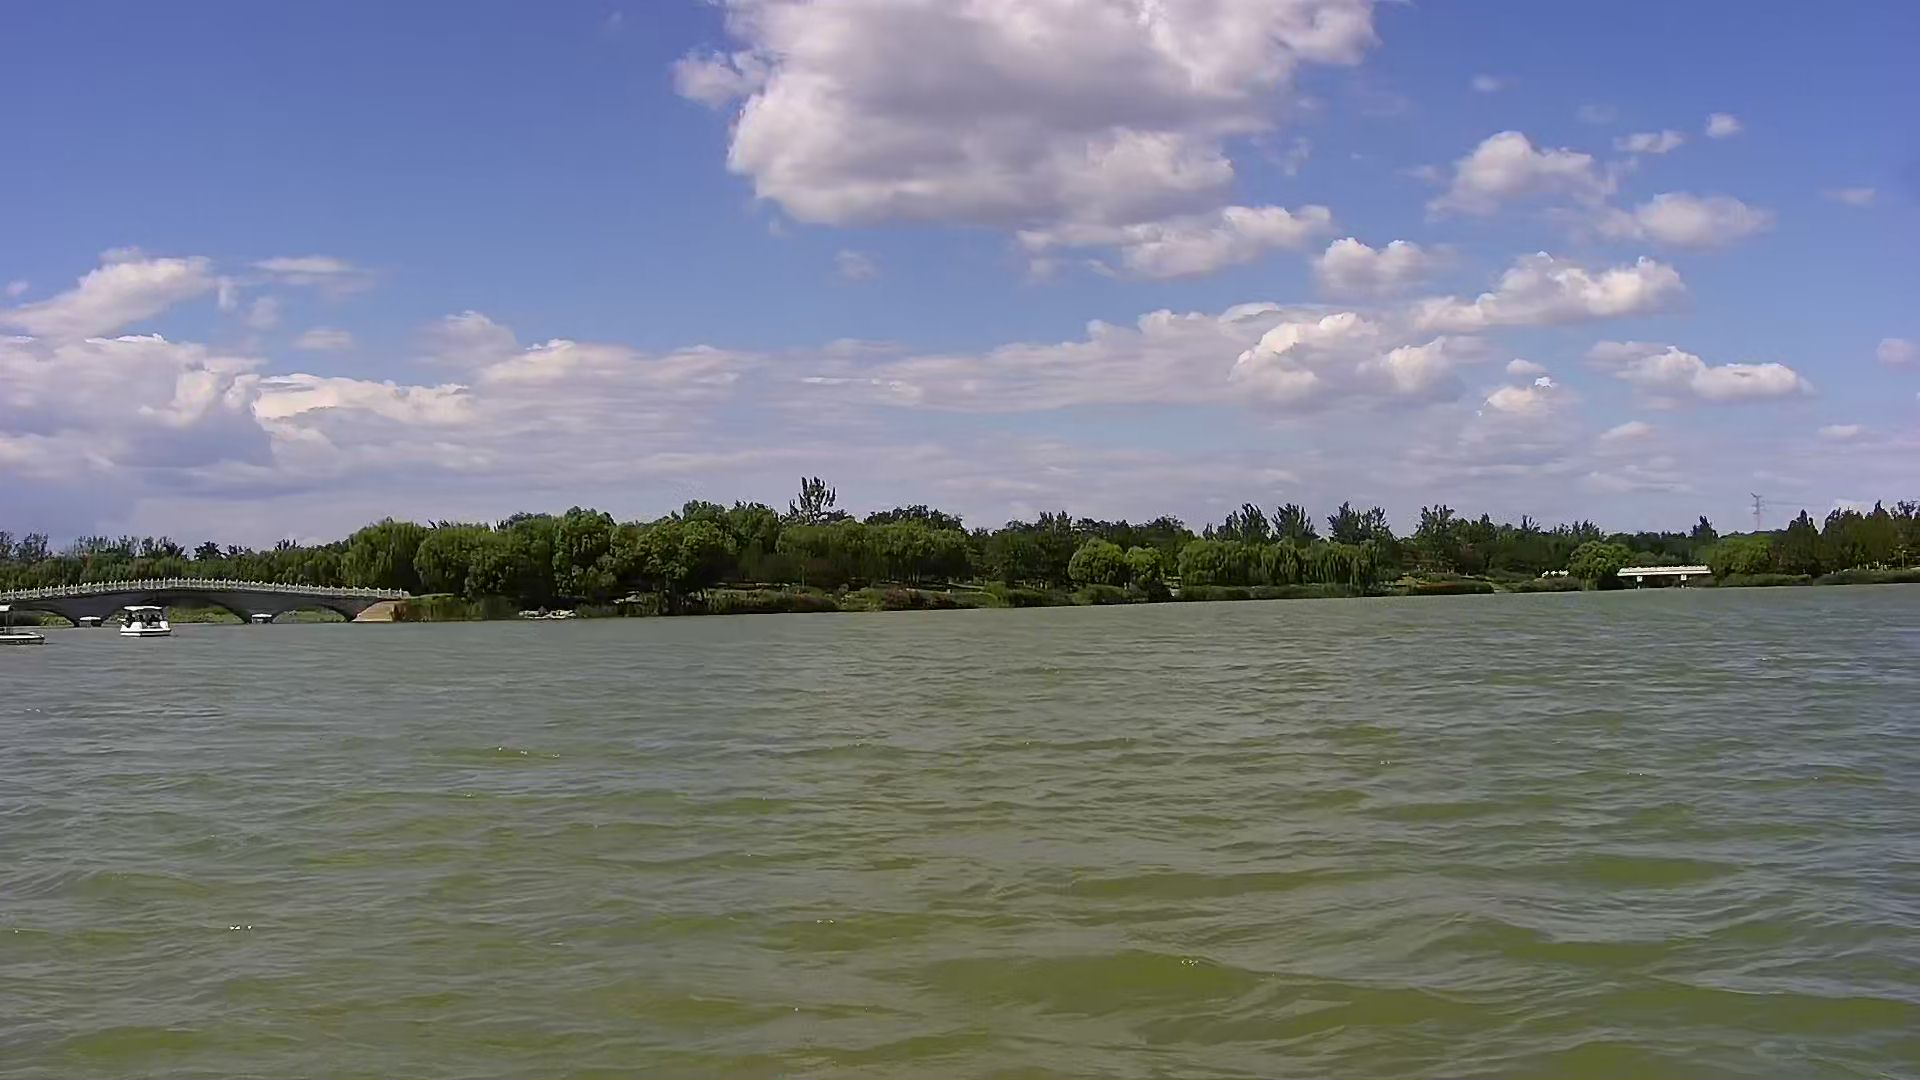boat: (113, 604, 196, 662)
bridge: (3, 574, 417, 624)
